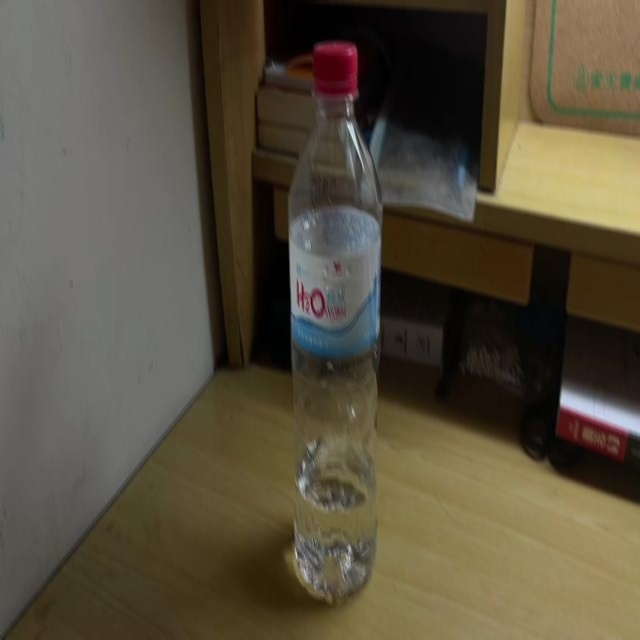Water: (288, 40, 380, 604)
